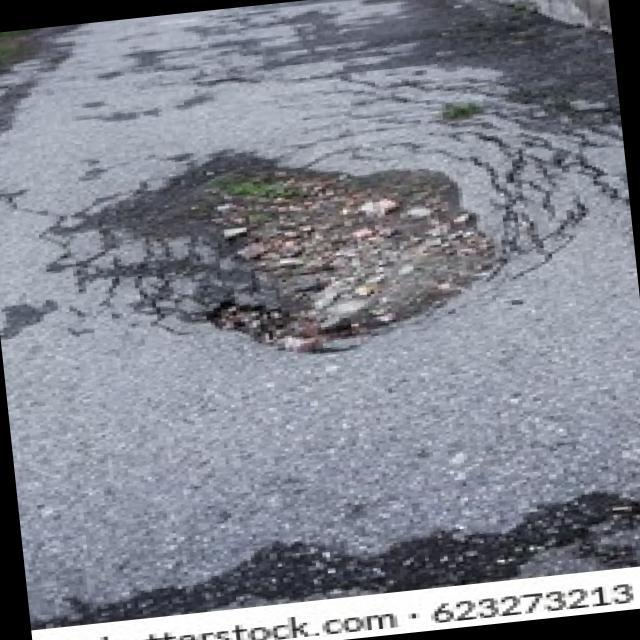Pothole: (156, 132, 518, 368)
